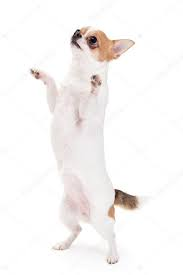chihuahua: (29, 22, 165, 263)
